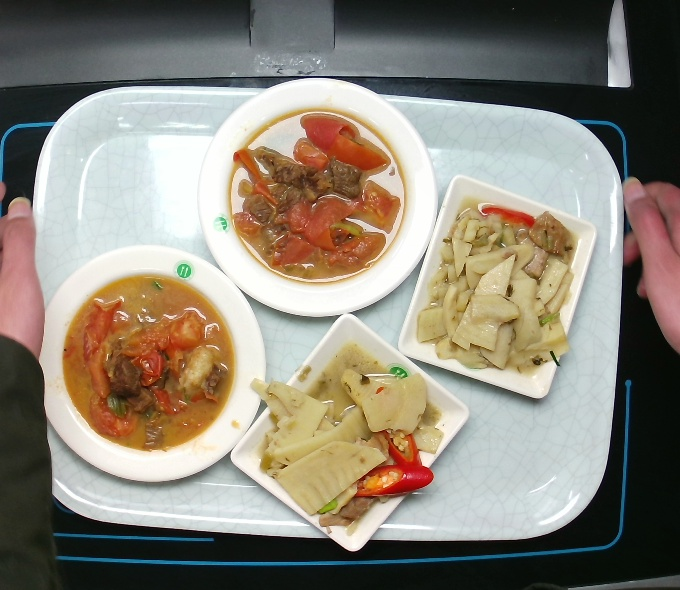wcq-DongSun: (250, 348, 442, 529), (418, 197, 590, 379)
wcq-FanQiwNiuRou: (53, 270, 249, 457), (220, 103, 416, 290)
